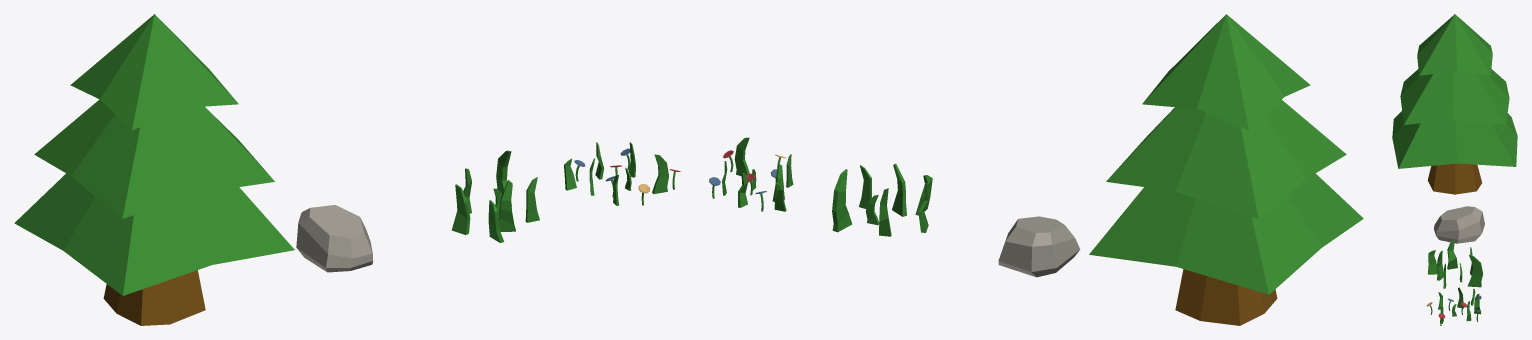
The model's file is Grass1.fbx.
3 views of the same model, side by side, from view 1: azimuth 30°, elevation 25°; view 2: azimuth 150°, elevation 25°; view 3: azimuth 270°, elevation 25° (orthographic). The views are drawn at different scales.
Visible parts, largest first — view 1: Tree, Rock, Grass1, Grass2; view 2: Tree, Rock, Grass1, Grass2; view 3: Tree, Rock, Grass1, Grass2.
Part boxes in pixels (left/top/right/bottom): Tree: left=14, top=14, right=294, bottom=325; Rock: left=296, top=205, right=373, bottom=272; Grass1: left=451, top=150, right=539, bottom=242; Grass2: left=564, top=142, right=680, bottom=205; Tree: left=1089, top=14, right=1363, bottom=325; Rock: left=998, top=216, right=1080, bottom=277; Grass1: left=832, top=163, right=932, bottom=236; Grass2: left=709, top=137, right=793, bottom=211; Tree: left=1392, top=14, right=1517, bottom=194; Rock: left=1434, top=206, right=1484, bottom=243; Grass1: left=1427, top=240, right=1482, bottom=288; Grass2: left=1426, top=287, right=1481, bottom=325.
Size of the model in its own units: 1215 by 557 by 375.
